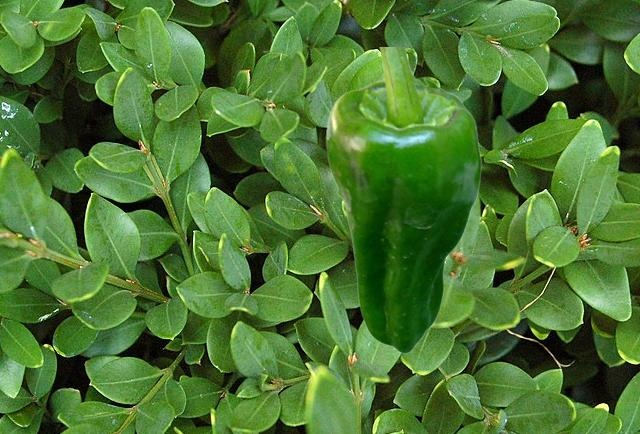bell_pepper: (325, 47, 481, 353)
